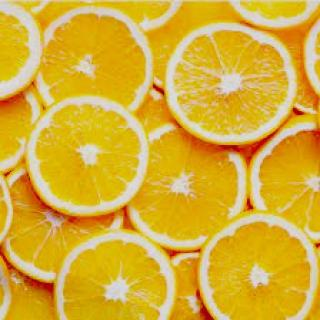orange: (26, 90, 153, 228), (162, 27, 303, 151)
